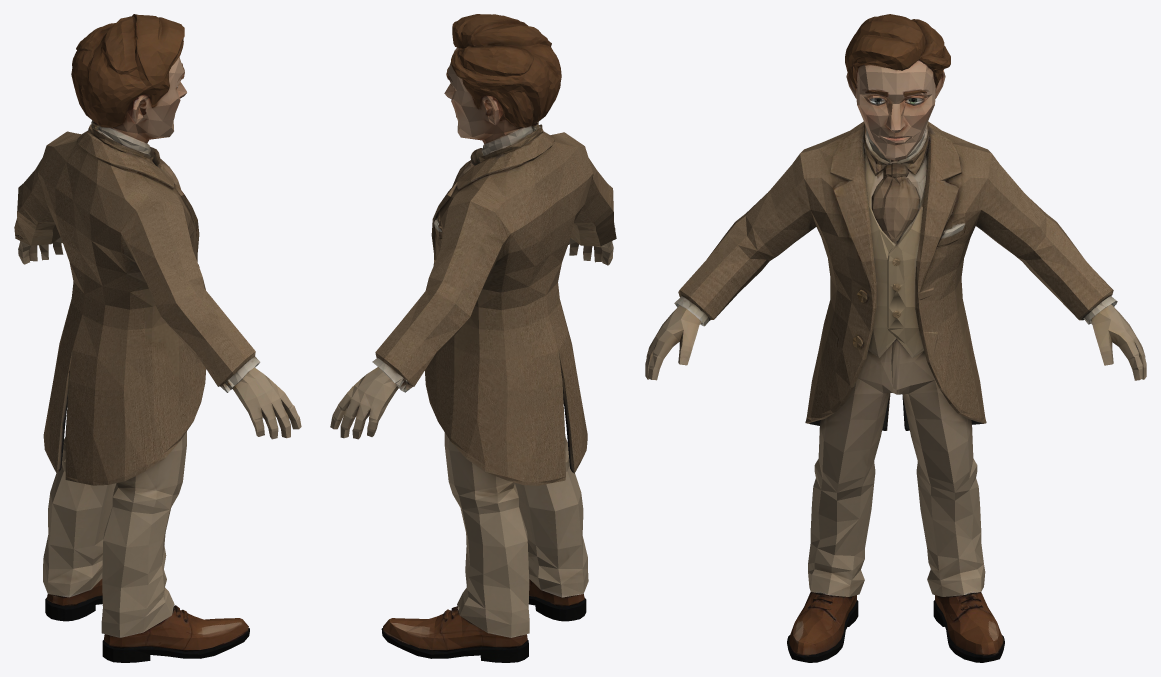
File: Henry_v1.fbx
The picture shows the model from 3 angles, left to right: view 1: azimuth 30°, elevation 25°; view 2: azimuth 150°, elevation 25°; view 3: azimuth 270°, elevation 25°; orthographic projection.
Visible parts, largest first — view 1: tripo_node_27815d64; view 2: tripo_node_27815d64; view 3: tripo_node_27815d64.
Part boxes in pixels (x1,y1,x2,y2): tripo_node_27815d64: [14, 14, 301, 662]; tripo_node_27815d64: [330, 14, 616, 662]; tripo_node_27815d64: [645, 14, 1146, 662].
Bounding box in the file's own units: 1.32 × 0.443 × 1.78.
Materials: 1 (1 with a texture image).
